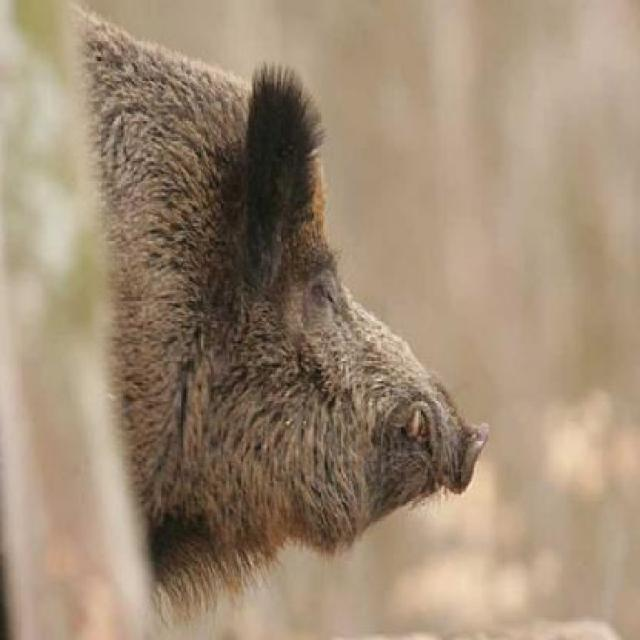pig: (38, 0, 497, 588)
